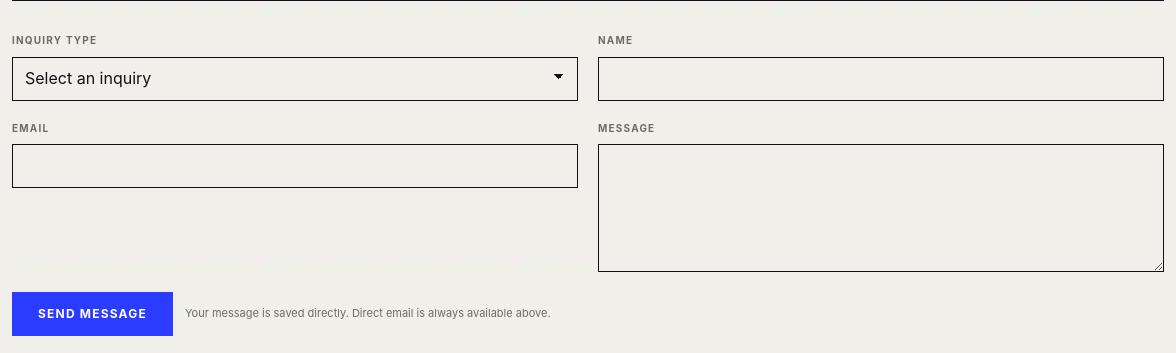
Phase 6 contact form › disables the submit button and announces pending state while sending
This screenshot has width=1176, height=353.
Select "Freelance project" in the dropdown labelled "Inquiry type" at (295, 78), box [12,56,578,100]
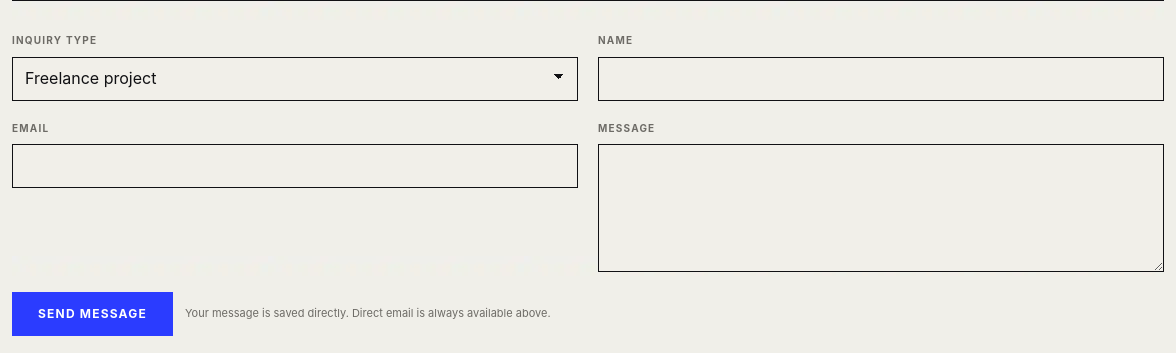
Type "Ada Lovelace" into the field labelled "Name" at (881, 78), box [598,56,1164,100]
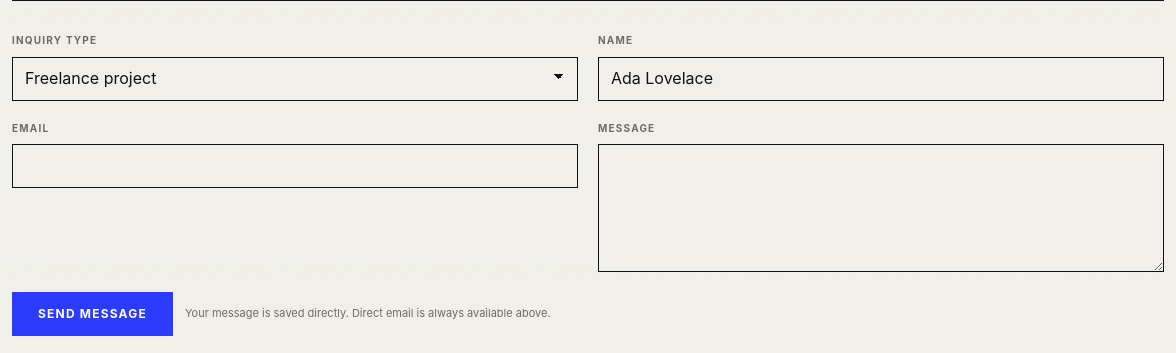
Type "ada@example.com" into the field labelled "Email" at (295, 166), box [12,144,578,188]
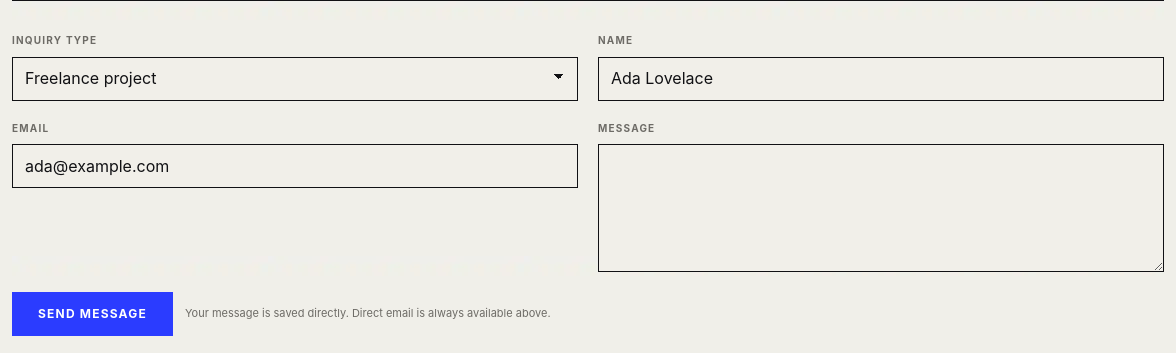
Type "Hello there" into the text box labelled "Message" at (881, 208), box [598,144,1164,272]
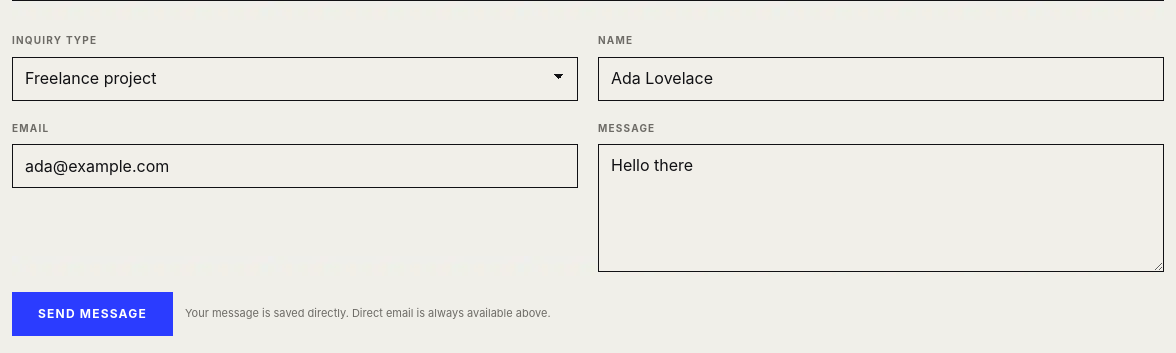
Click the button "Send message" at (92, 314), box [12,292,173,336]
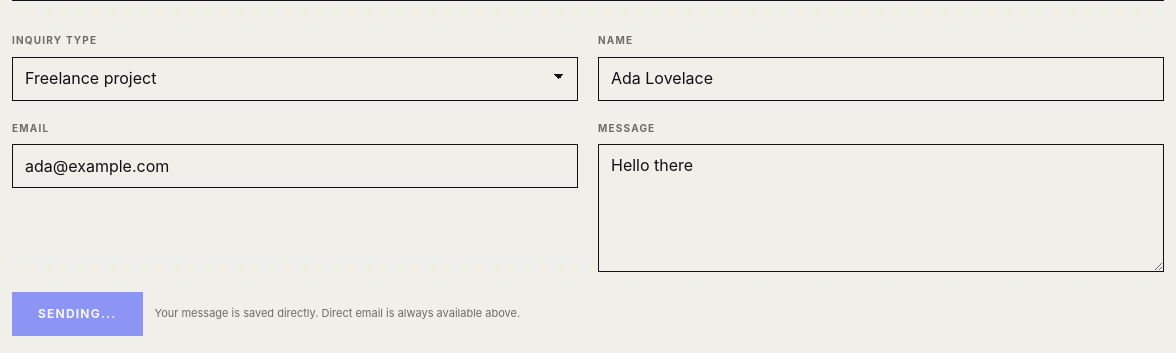
Expected: the button "Sending..." is disabled, [12,292,142,336]
